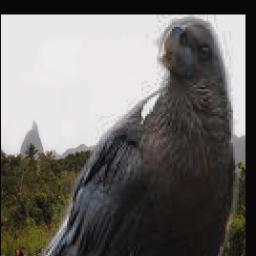Crow: (31, 16, 238, 256)
